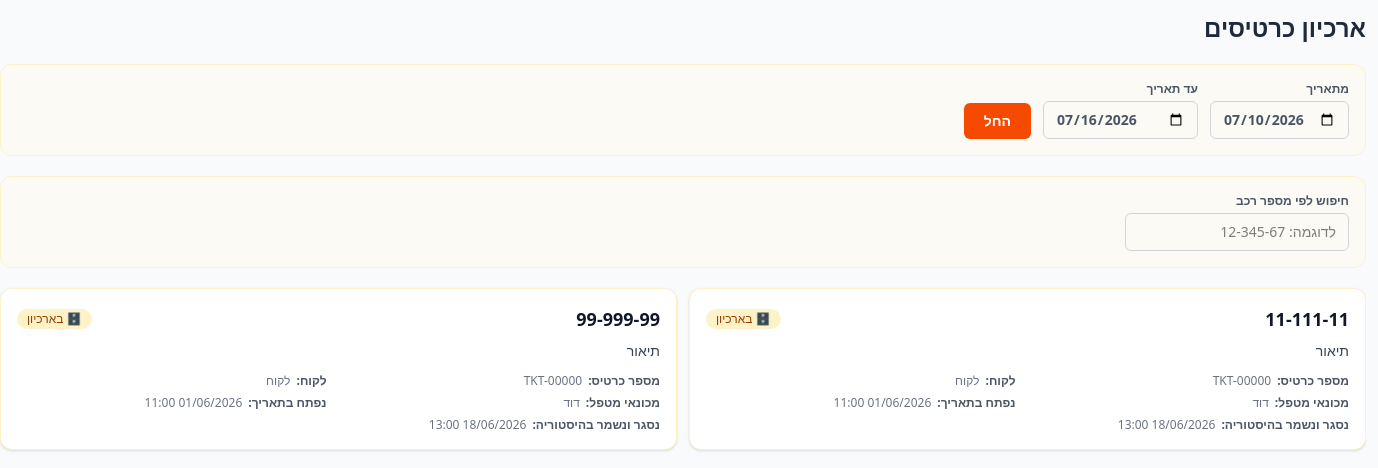
Test: MyTicketsPage — search & filter › filters by license plate
Check: the text "11-111-11" is shown, box 1265,305 -> 1349,333
Type "99" into the search field labelled "חיפוש לפי מספר רכב" at coordinates (1237, 232), box 1125,213 -> 1349,251
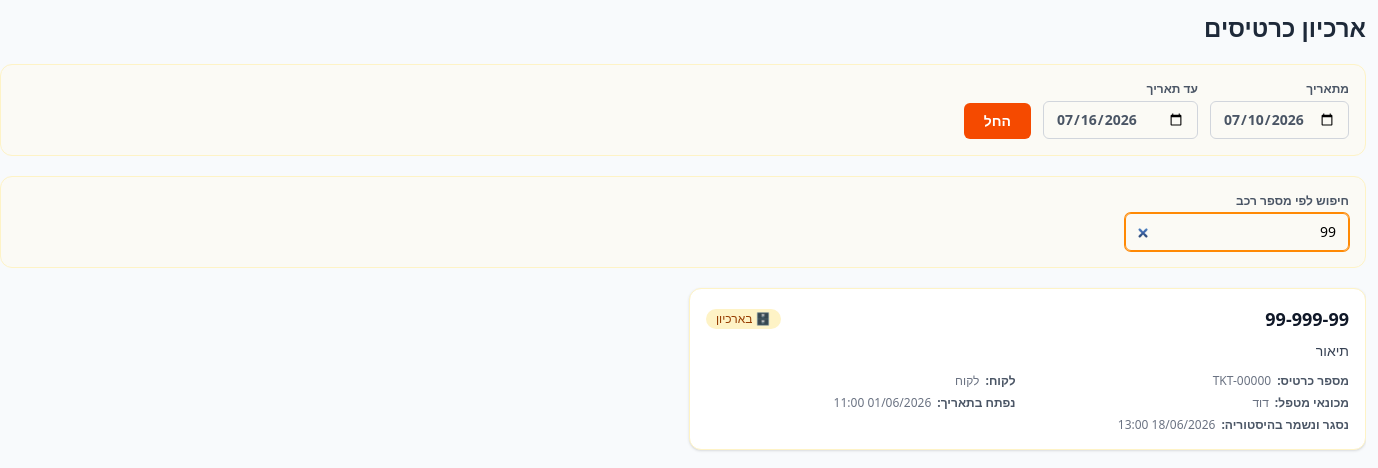
Check: the text "99-999-99" is shown, box 1265,305 -> 1349,333
Check: the text "11-111-11" is gone
